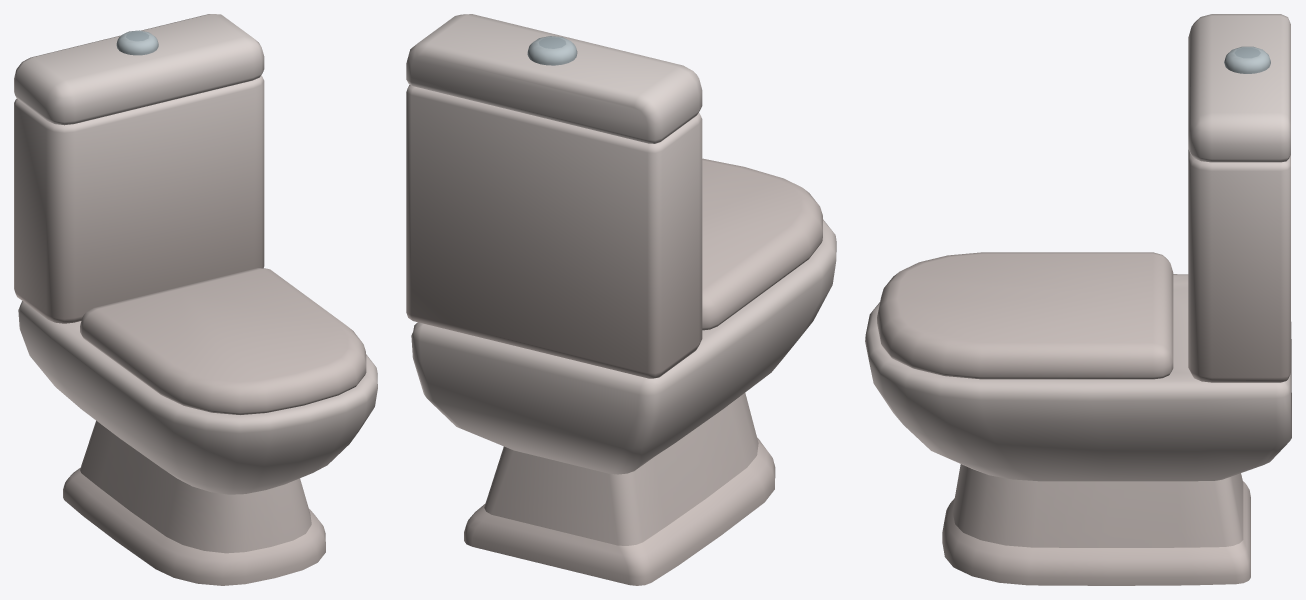
File: Toilet_03.glb
3 views of the same model, side by side, from view 1: azimuth 30°, elevation 25°; view 2: azimuth 150°, elevation 25°; view 3: azimuth 270°, elevation 25° (orthographic). The views are drawn at different scales.
Parts seen in each view (by area): view 1: Toilet_03, Toilet_03_Cover; view 2: Toilet_03, Toilet_03_Cover; view 3: Toilet_03, Toilet_03_Cover.
Part boxes in pixels (bbox=[...]): Toilet_03: bbox=[14, 14, 377, 585]; Toilet_03_Cover: bbox=[80, 268, 366, 414]; Toilet_03: bbox=[406, 14, 836, 585]; Toilet_03_Cover: bbox=[702, 158, 822, 330]; Toilet_03: bbox=[865, 14, 1291, 585]; Toilet_03_Cover: bbox=[877, 252, 1173, 379].
Bounding box in the file's own units: 0.4174 × 0.8017 × 0.6345.
Materials: 1 (1 with a texture image).
